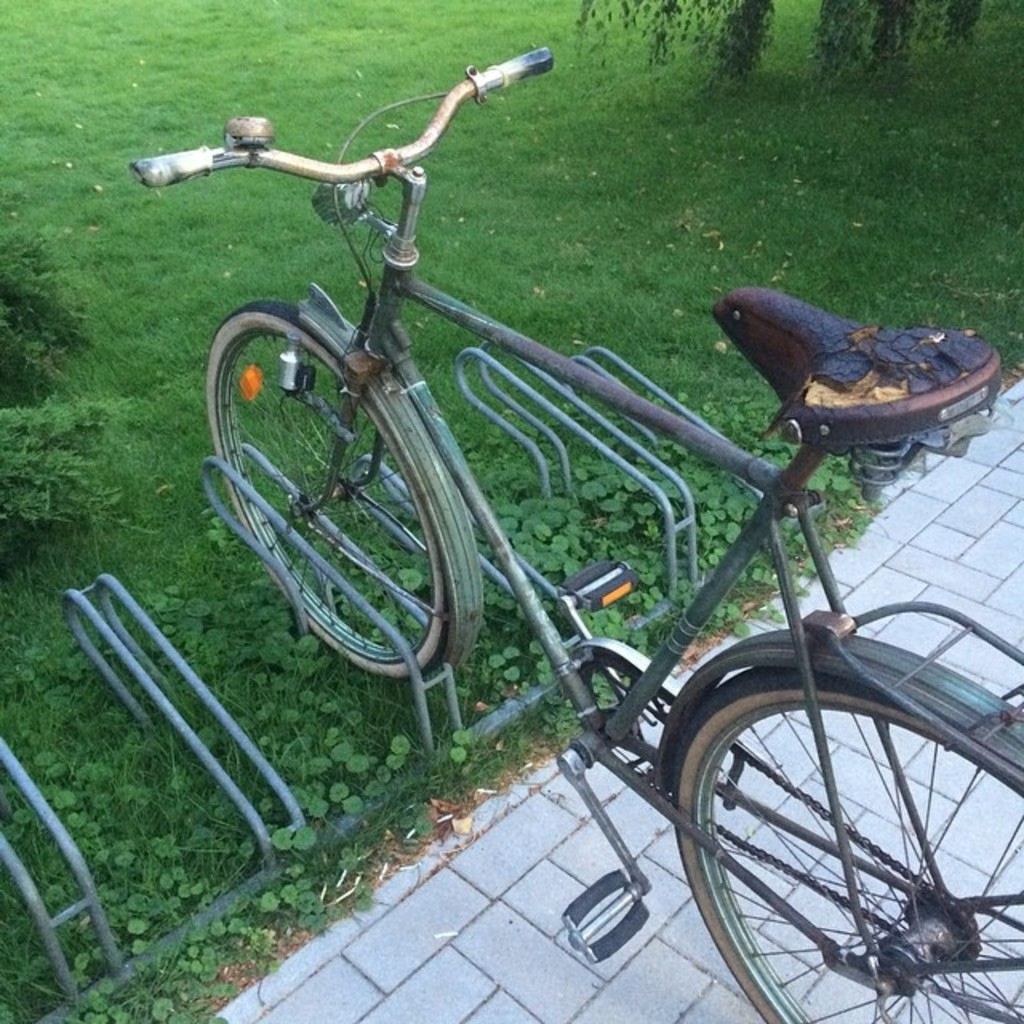Bike: (159, 59, 993, 1009)
